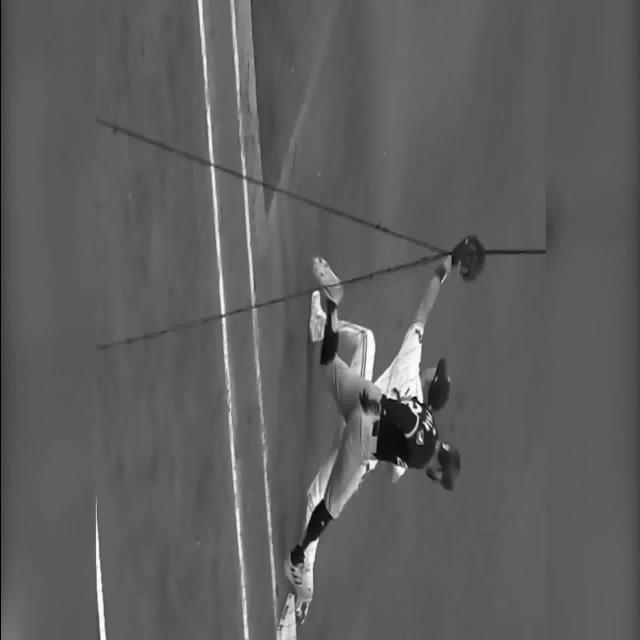base: (277, 581, 296, 640)
baseball_glove: (451, 234, 486, 280)
shoe: (283, 544, 313, 600), (312, 256, 344, 307), (308, 289, 326, 342)
